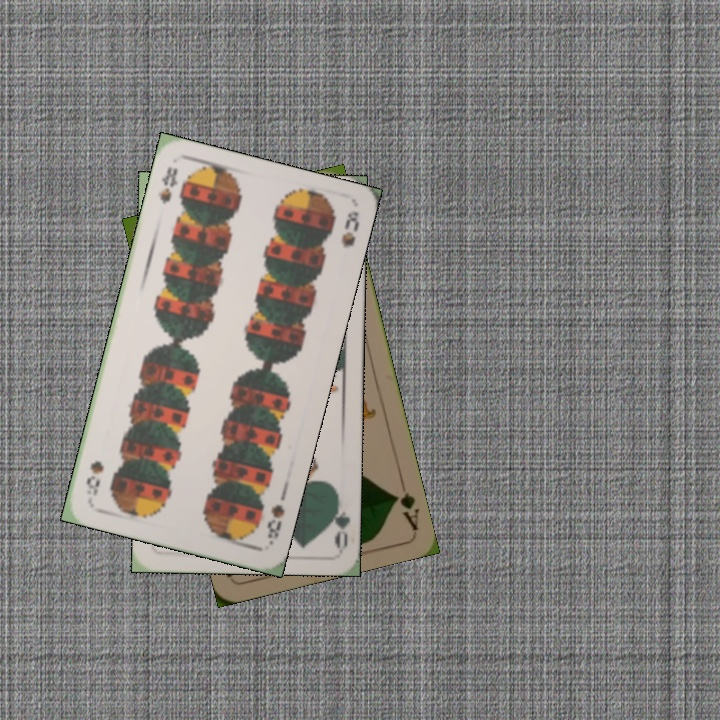GA: (389, 474, 422, 532)
GO: (325, 490, 352, 549)
S8: (263, 500, 287, 547), (155, 162, 180, 207)
